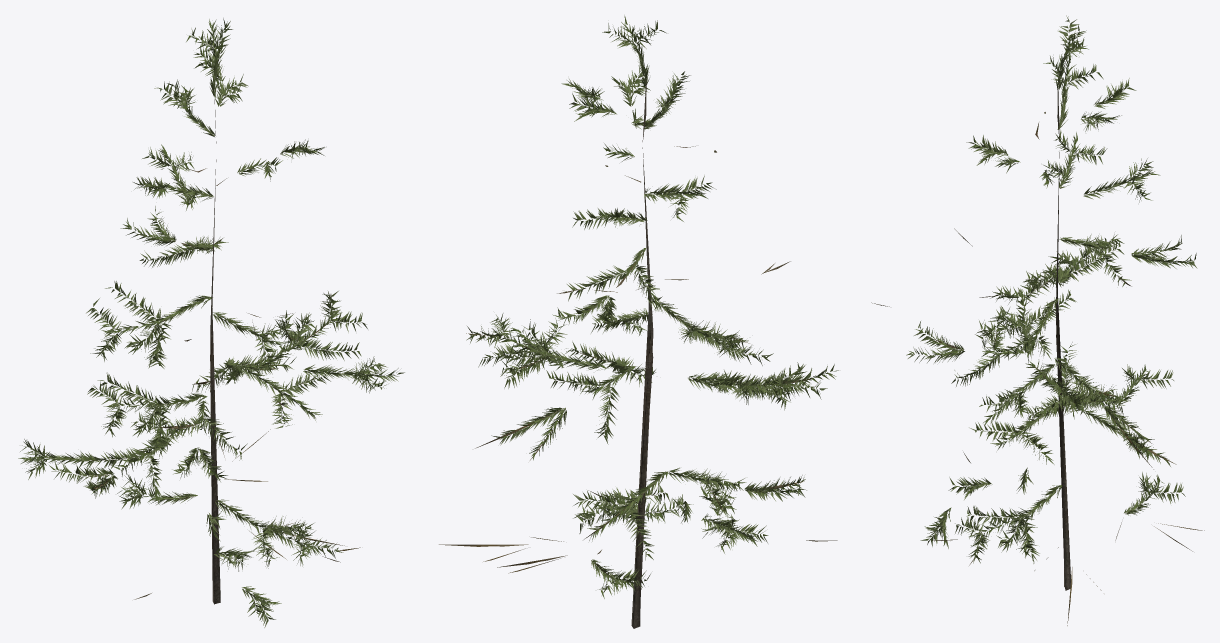
The model's file is fir-sapling.glb.
3 renders of one model, left to right at view 1: azimuth 30°, elevation 25°; view 2: azimuth 150°, elevation 25°; view 3: azimuth 270°, elevation 25°, orthographic. The views are drawn at different scales.
Parts seen in each view (by area): view 1: fir_sapling_a; view 2: fir_sapling_a; view 3: fir_sapling_a.
Part boxes in pixels (x1,y1,x2,y2): fir_sapling_a: (18, 18, 404, 627); fir_sapling_a: (439, 15, 838, 628); fir_sapling_a: (871, 15, 1204, 625).
Bounding box in the file's own units: 0.7072 × 1.23 × 0.6607.
2 materials, 2 textured.
